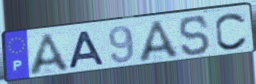9: (107, 25, 136, 65)
A: (137, 18, 183, 64), (28, 31, 73, 77), (67, 29, 106, 70)
C: (214, 11, 249, 51)
S: (178, 14, 212, 58)
